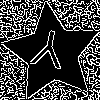Y: (27, 28, 68, 79)
